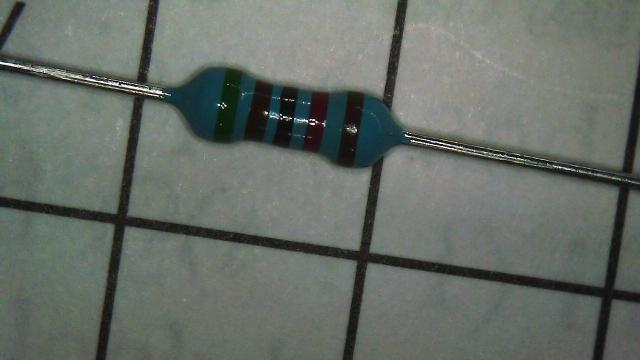black: (273, 87, 298, 146)
brown: (337, 92, 364, 166), (245, 80, 272, 142)
green: (213, 68, 242, 142)
red: (304, 91, 328, 152)
resistor: (166, 57, 410, 182)
